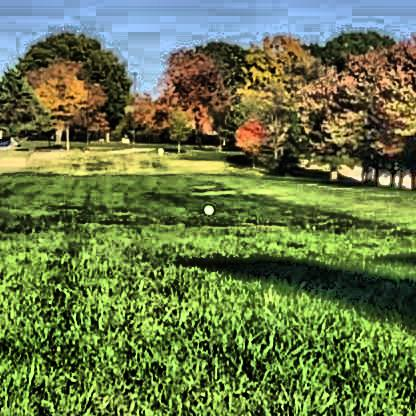golfball: (200, 201, 214, 213)
